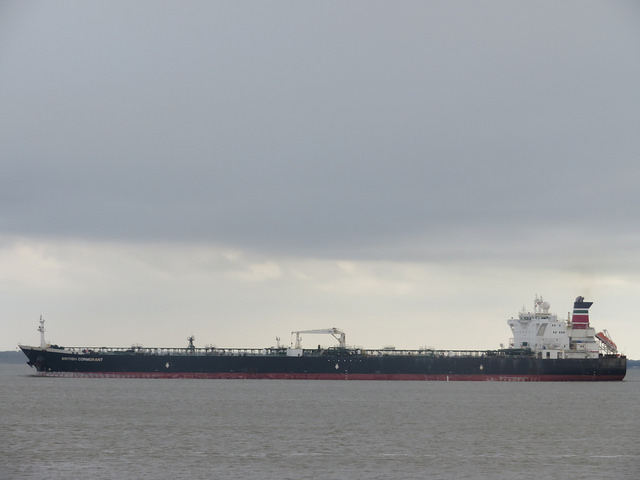tanker: (23, 289, 636, 388)
